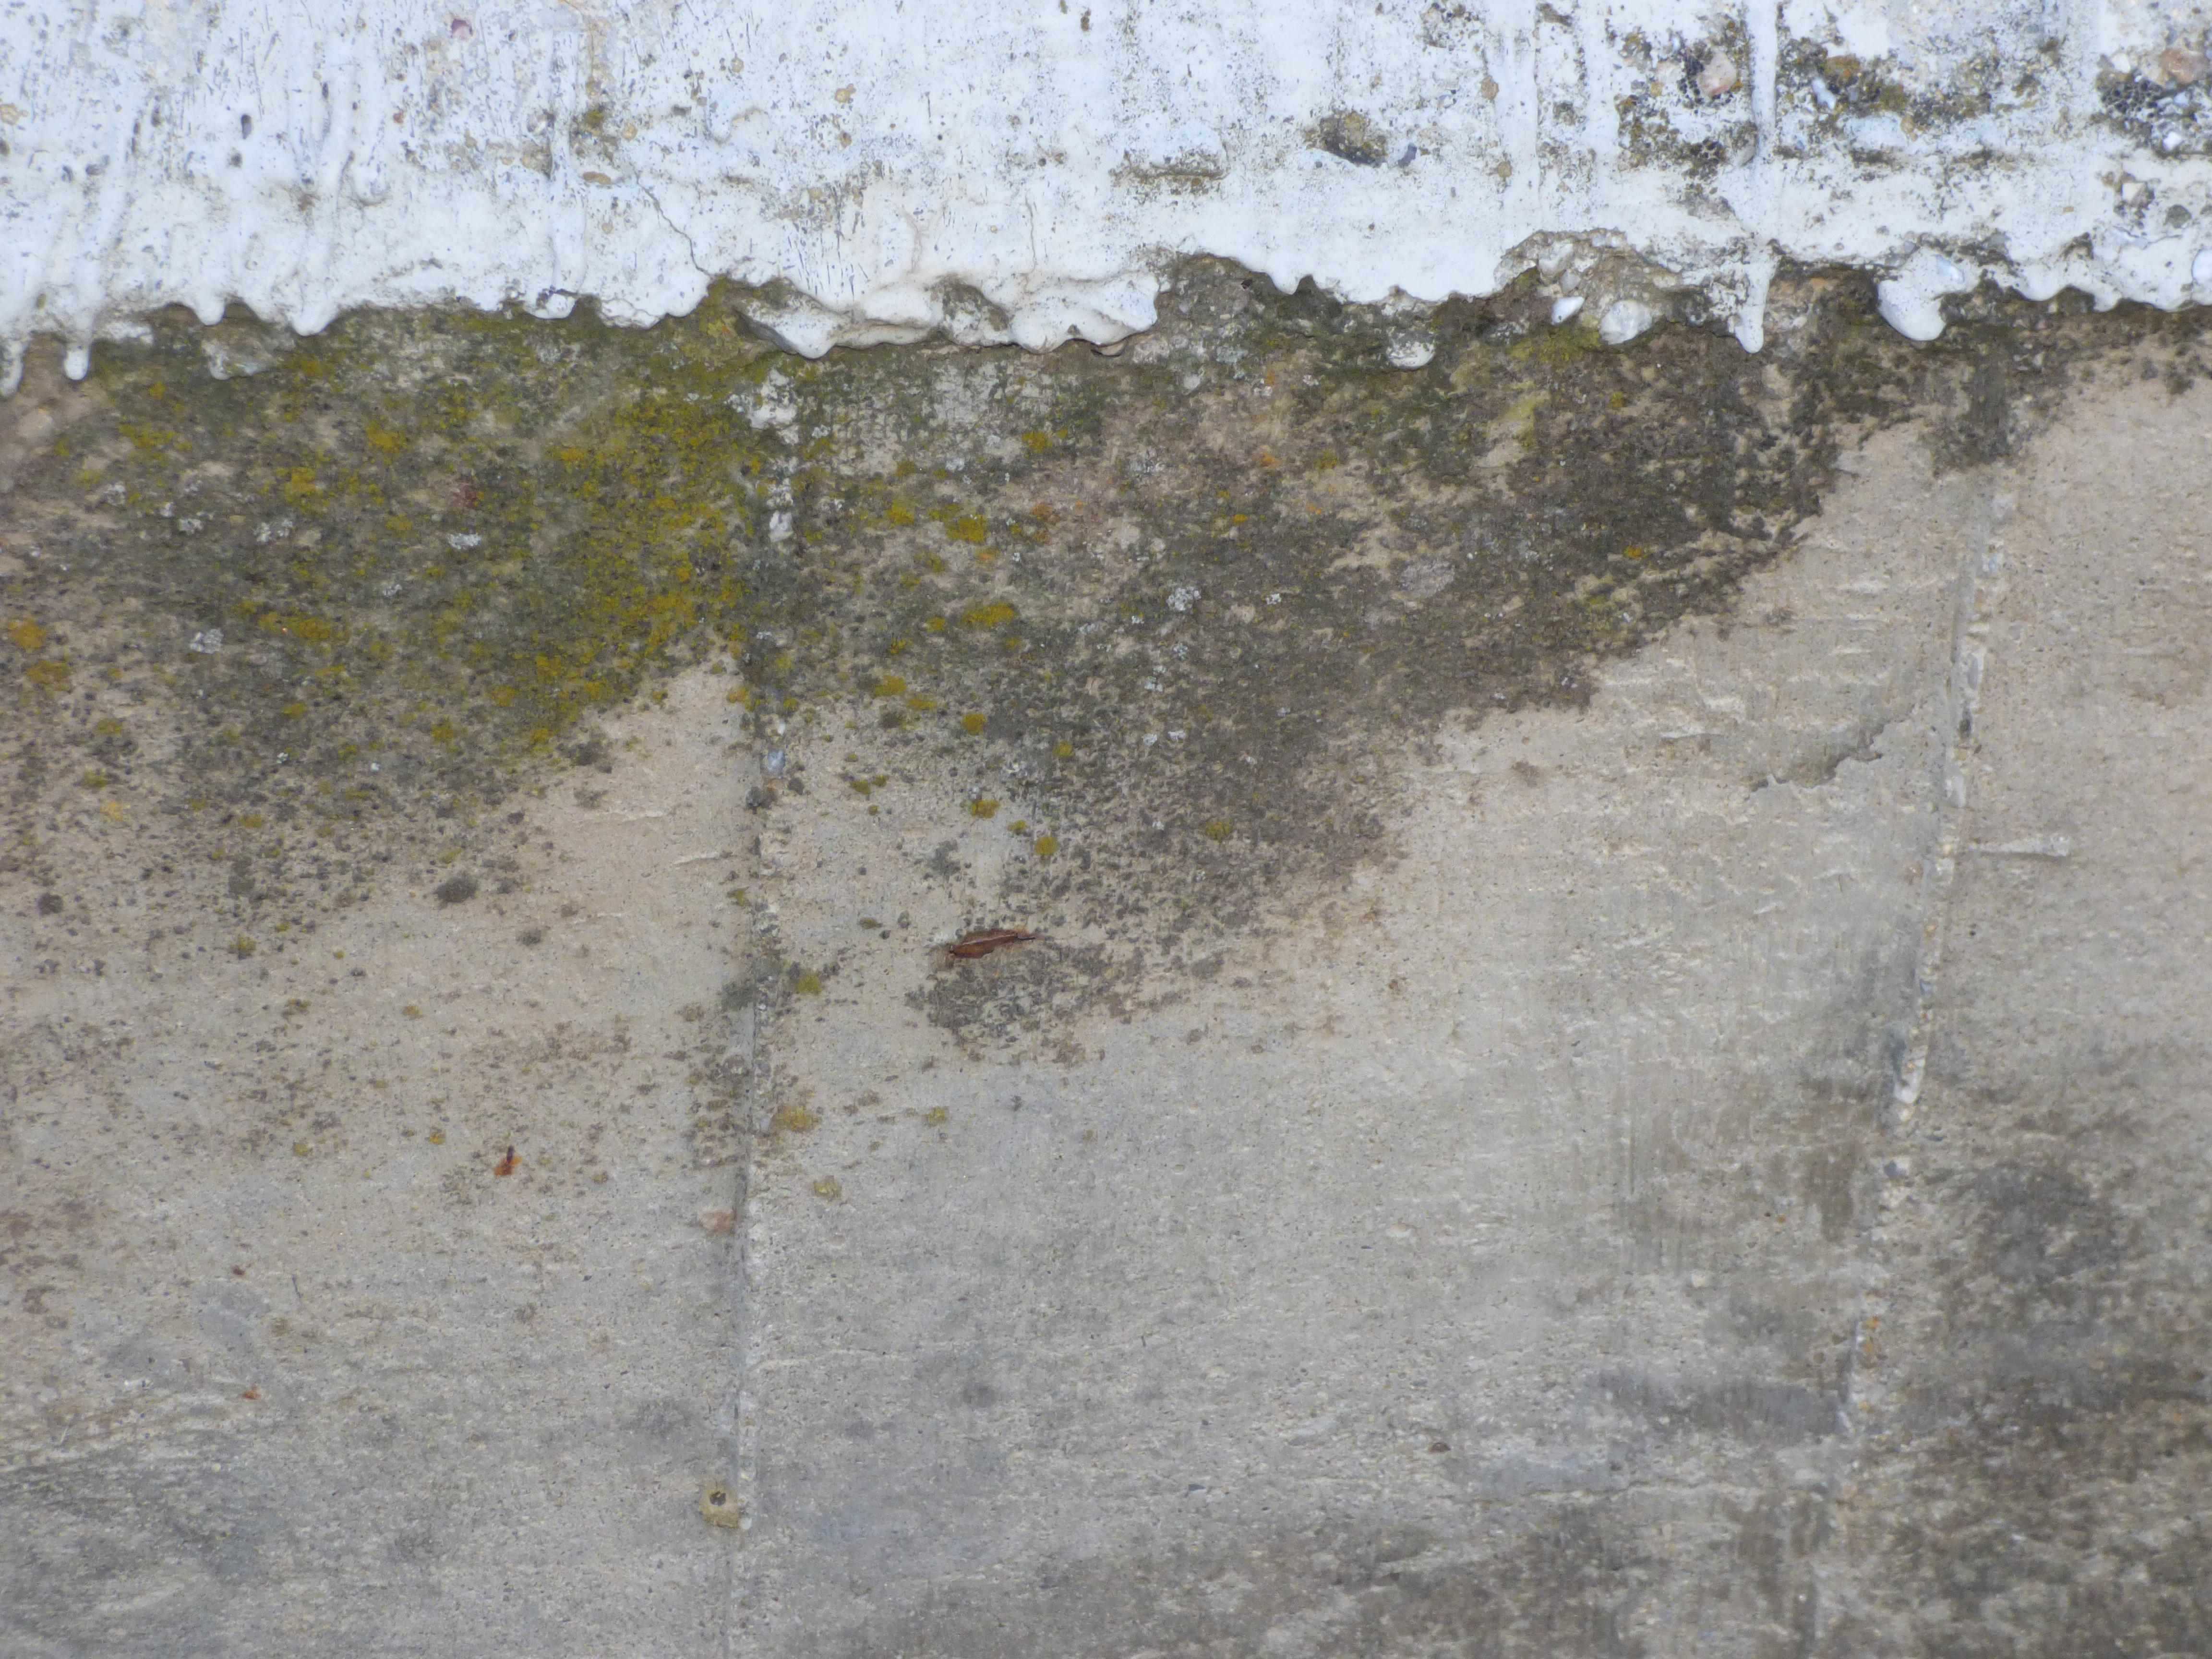Corrosion: (0, 274, 2212, 1061), (949, 929, 1036, 958)
